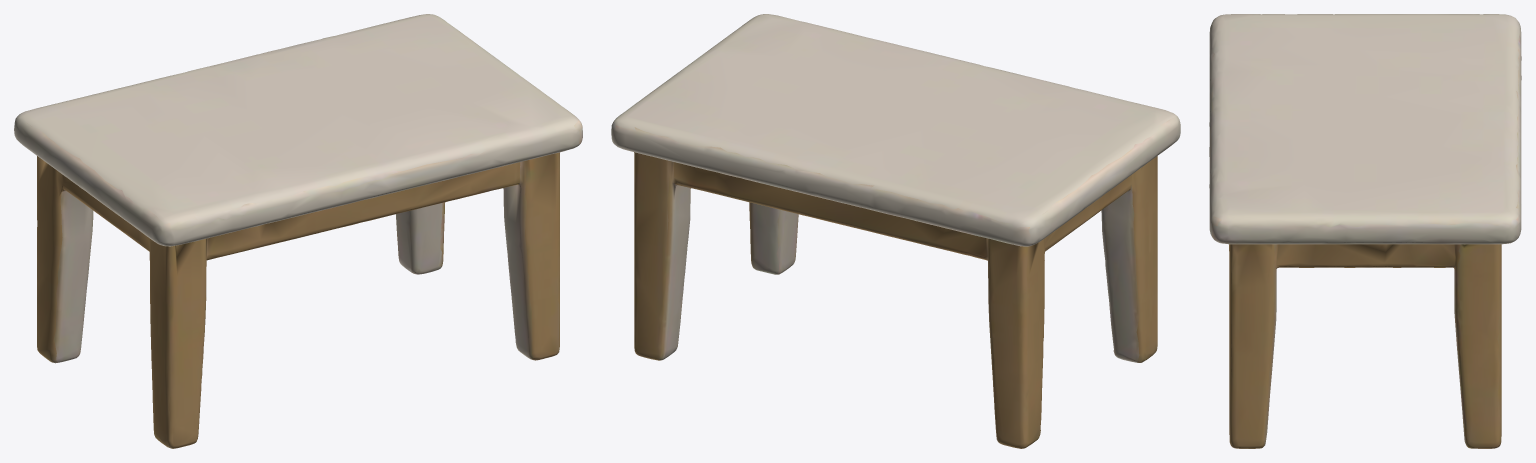
File: dining_table.glb
The picture shows the model from 3 angles, left to right: view 1: azimuth 30°, elevation 25°; view 2: azimuth 150°, elevation 25°; view 3: azimuth 270°, elevation 25°; orthographic projection.
Visible parts, largest first — view 1: geometry_0; view 2: geometry_0; view 3: geometry_0.
Part boxes in pixels (x1=…): geometry_0: x1=14, y1=14, x2=582, y2=448; geometry_0: x1=611, y1=14, x2=1180, y2=448; geometry_0: x1=1209, y1=14, x2=1521, y2=448.
Bounding box in the file's own units: 1 × 0.5397 × 0.6317.
1 material, 1 textured.
